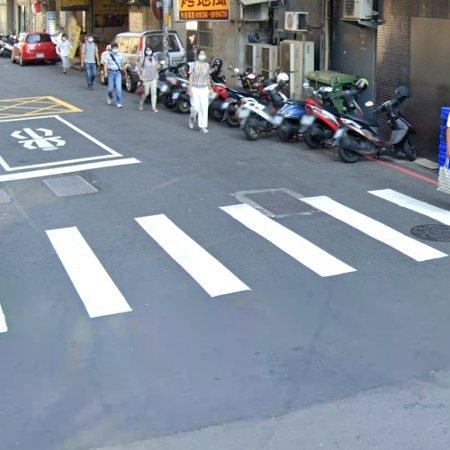crosswalks: (0, 180, 450, 335)
